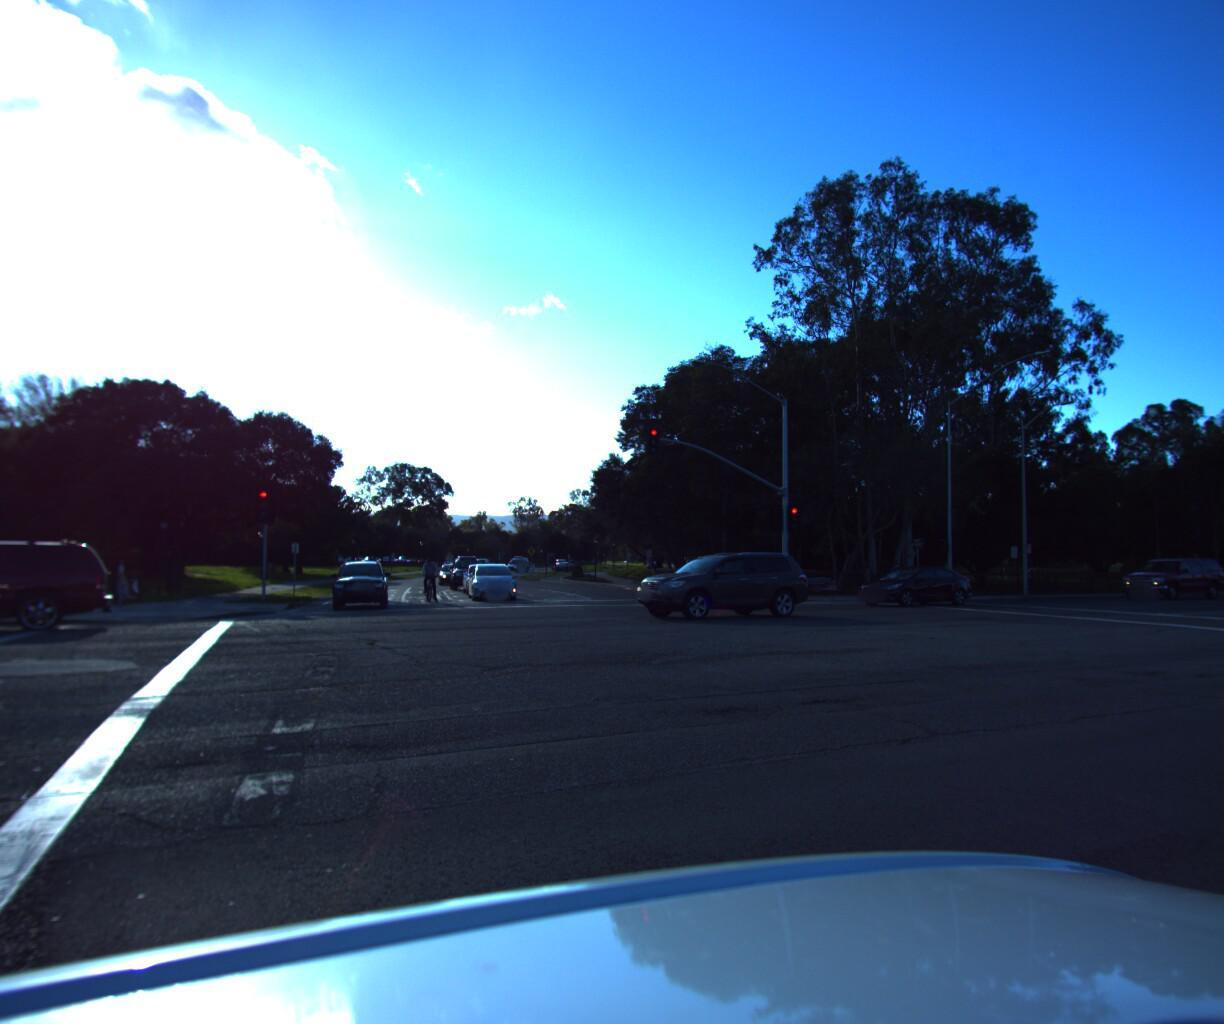bicycle: (415, 552, 442, 603)
car: (621, 541, 812, 617), (845, 561, 975, 602), (1107, 550, 1224, 595), (326, 557, 390, 609), (462, 560, 521, 599), (445, 548, 488, 588), (457, 561, 506, 594)
